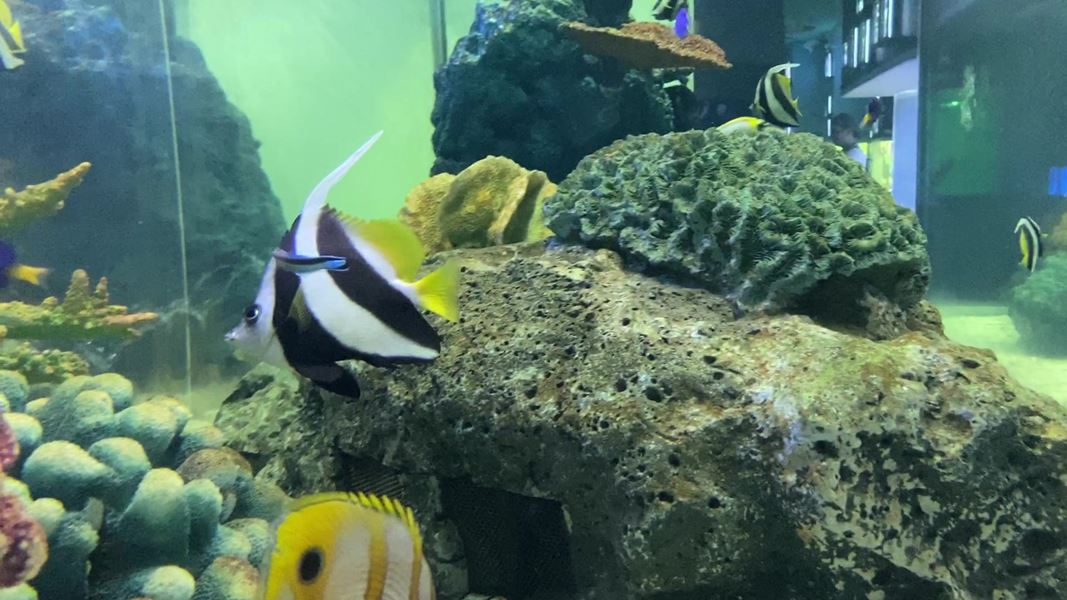Bluesteak cleaner wrasse: (256, 235, 356, 282)
